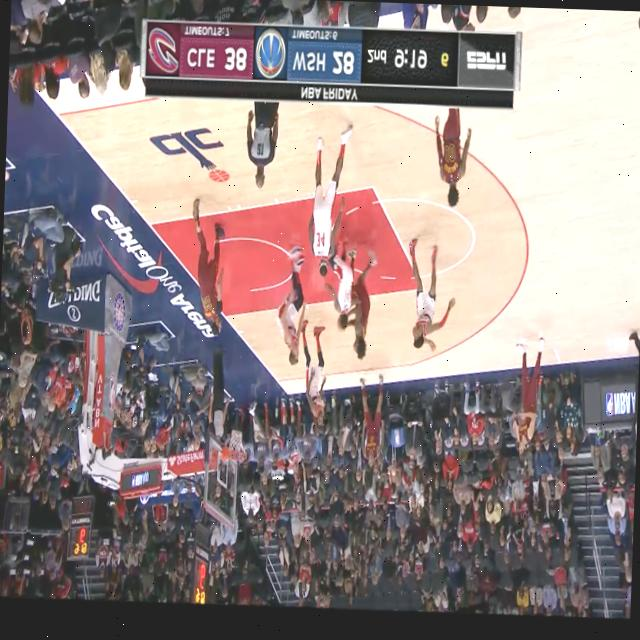no foul: (319, 224, 401, 368)
